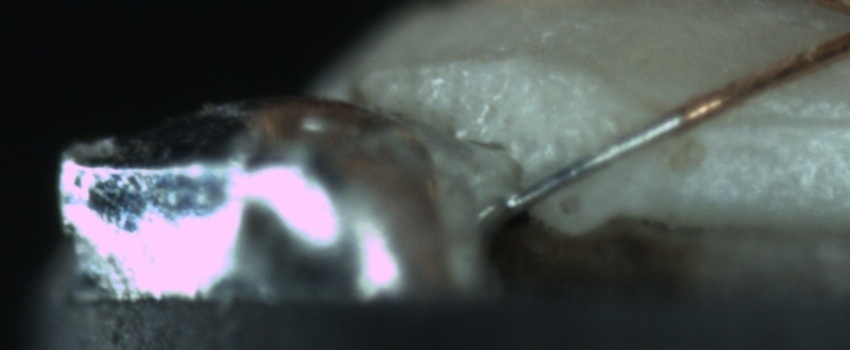DL: (701, 93, 849, 152)
TS: (511, 115, 685, 211)
